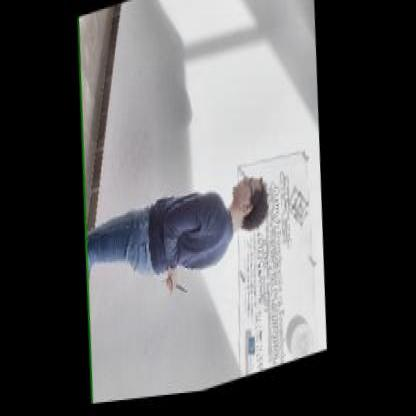knife: (162, 272, 192, 303)
